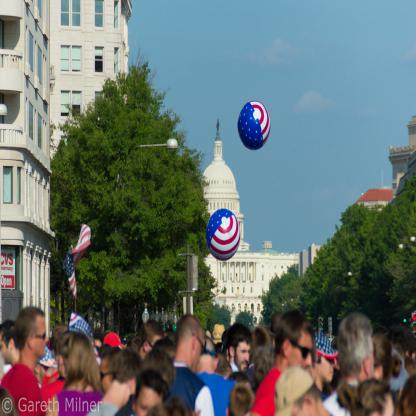Ball: (206, 209, 240, 261), (237, 99, 271, 148)
